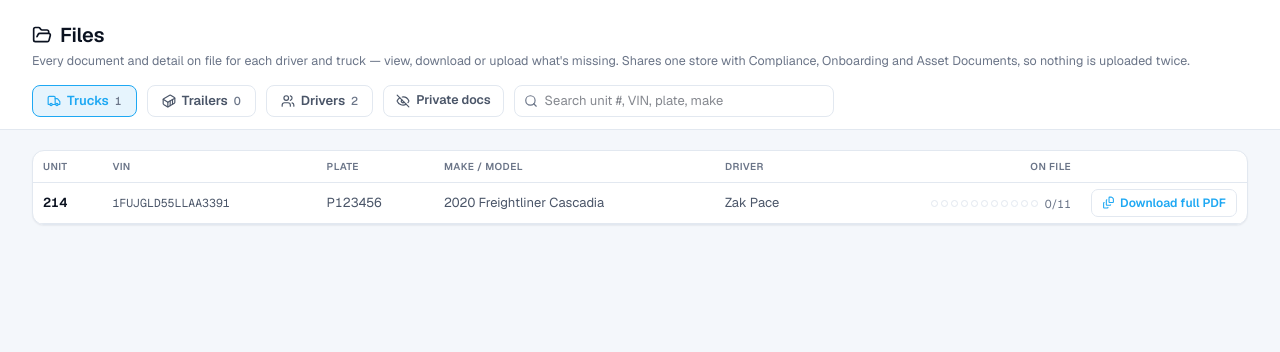
Scenario: Files hub renders › filters drivers by status from the tabs below the list
Click the button "Drivers 2".
click(320, 101)  # box [266,85,373,117]
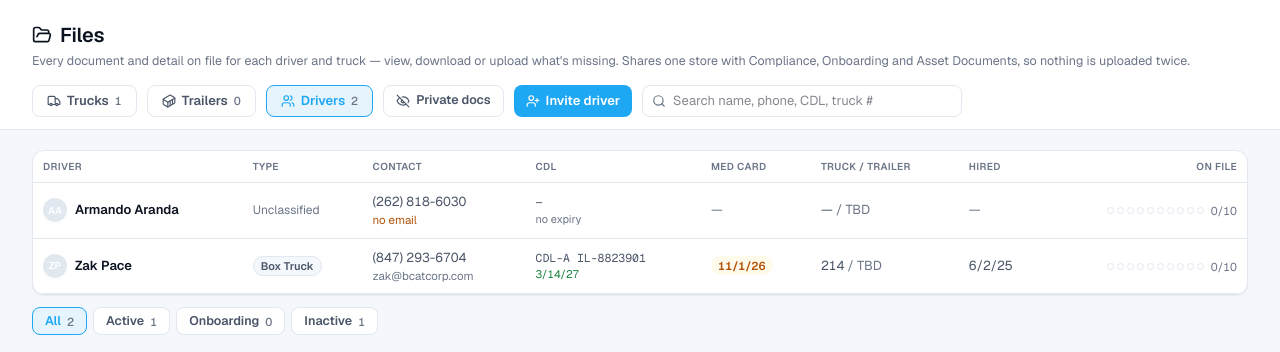
Check: the button "All 2" is shown, box [32,307,87,335]
Check: the button "Onboarding 0" is shown
Click the button "Onboarding 0".
click(231, 321)  # box [176,307,285,335]
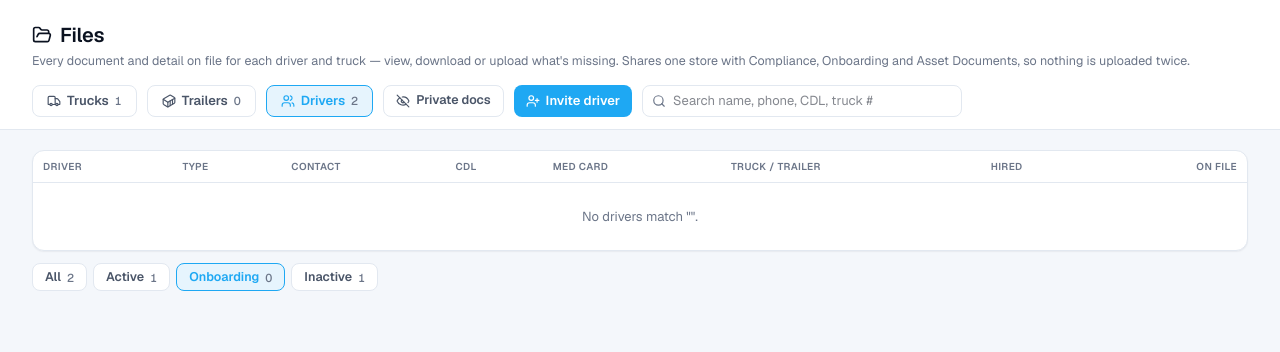
Check: the text "Zak Pace" is gone
Click the button "Active 1".
click(132, 277)  # box [93,263,170,291]
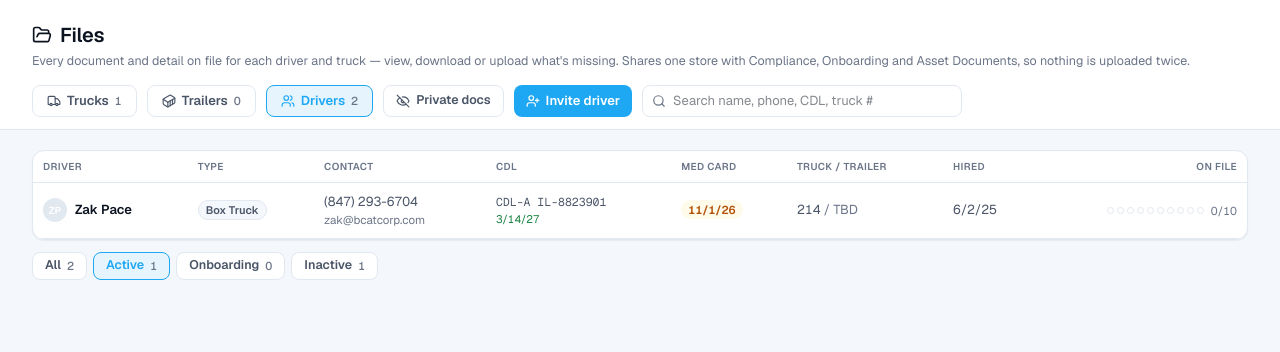
Check: the text "Zak Pace" is shown, box [75,200,132,220]
